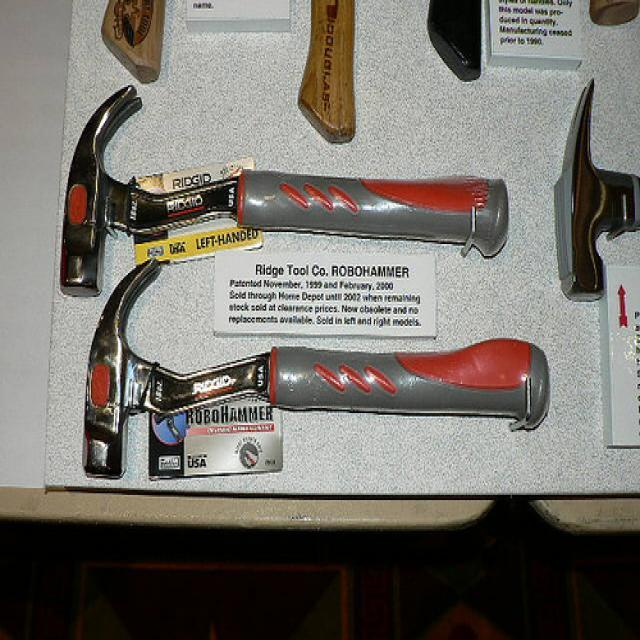hammer: (48, 242, 556, 504), (56, 76, 524, 320), (547, 68, 640, 307)
